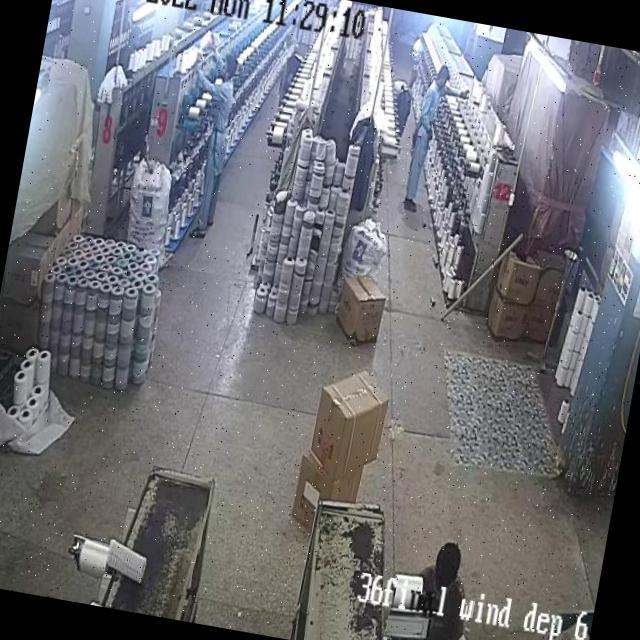person: (190, 58, 252, 230), (404, 56, 456, 198), (415, 539, 483, 640)
